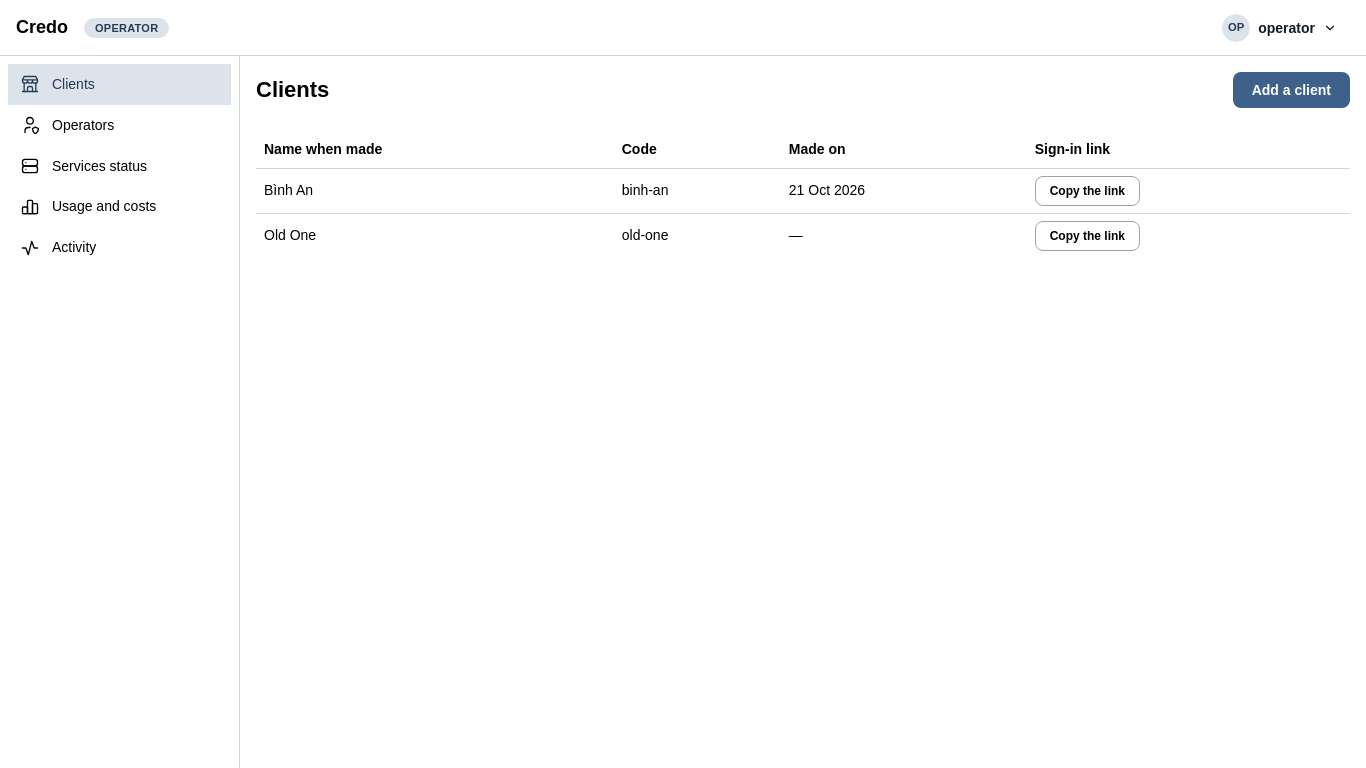
Test case: the operator’s page › A code already taken is refused, says so, and what was typed stays
Click the link "Add a client" at (1291, 90), box x1=1233 y1=72 x2=1350 y2=108
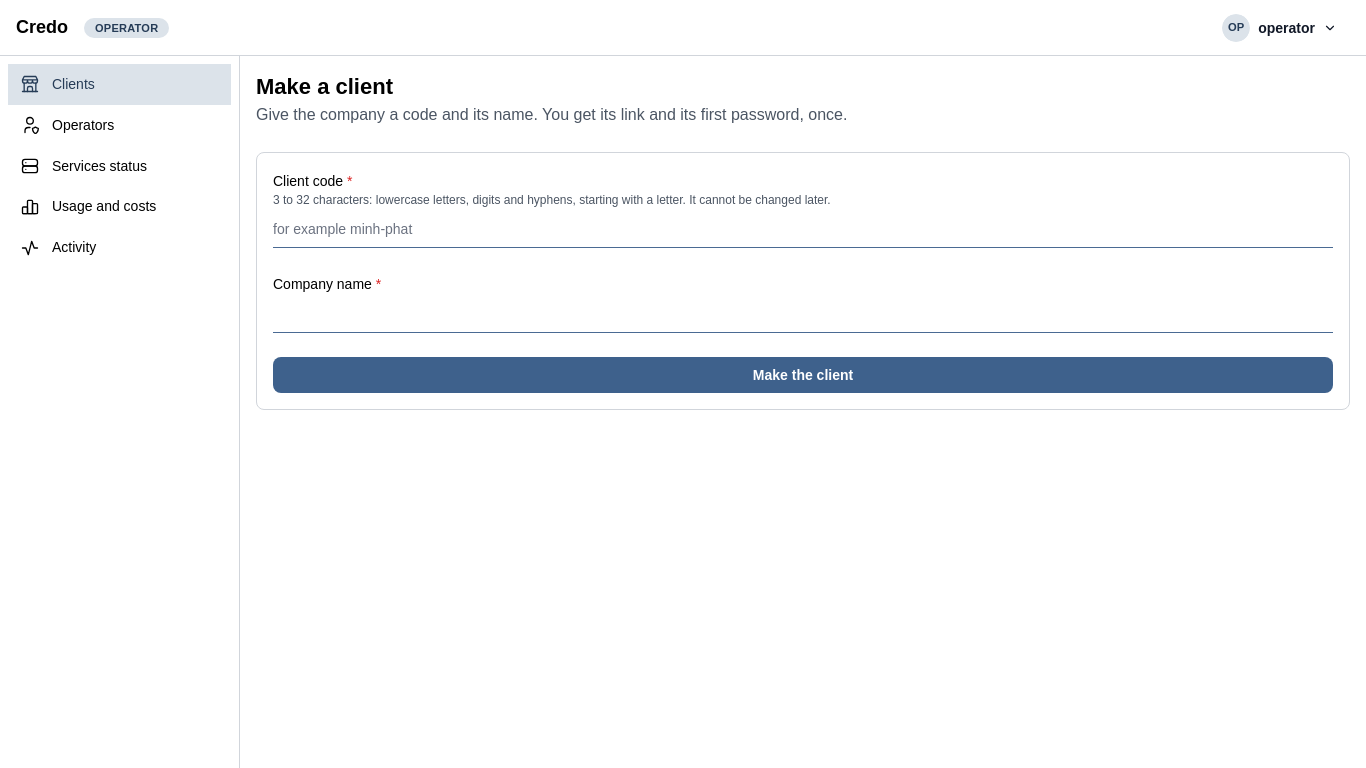
Type "minh-phat" into the field labelled "Client code *" at (803, 230), box x1=273 y1=212 x2=1333 y2=248
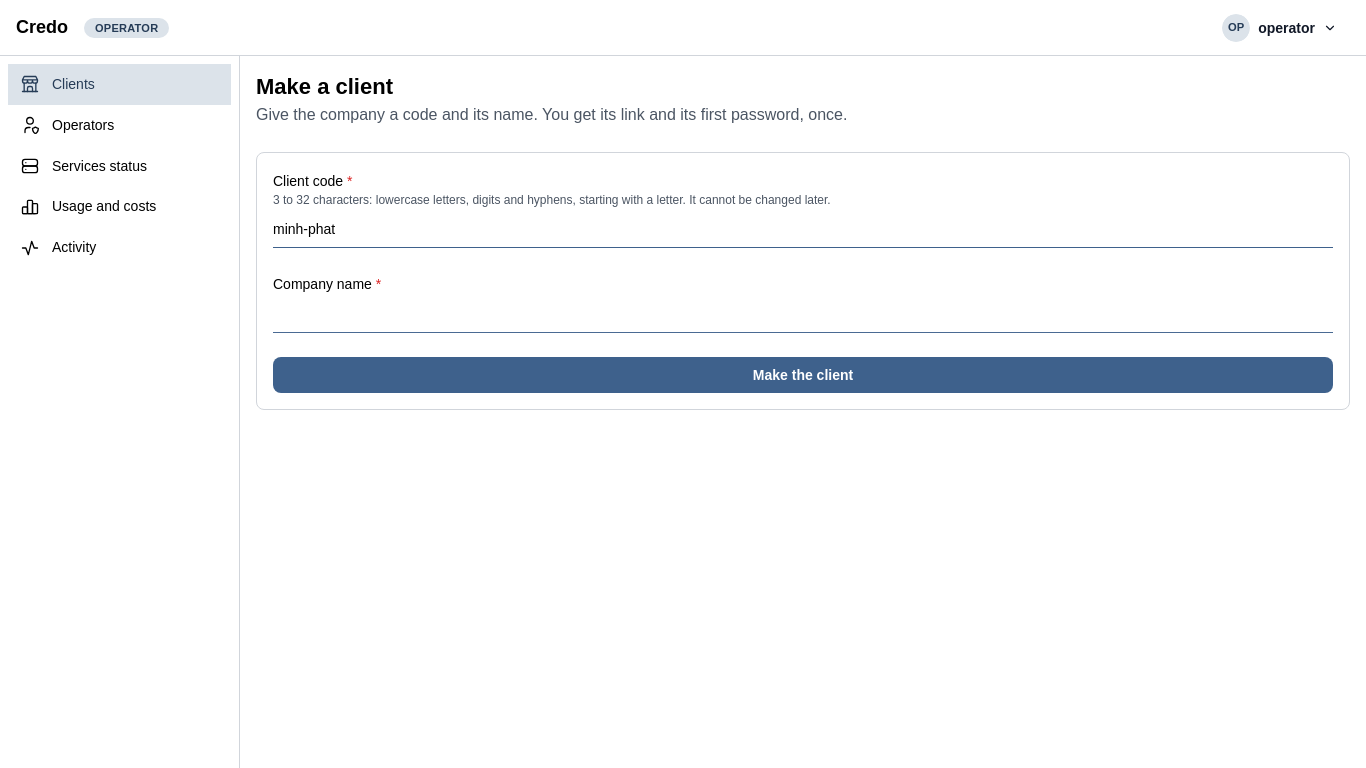
Type "Minh Phát" into the field labelled "Company name *" at (803, 315), box x1=273 y1=297 x2=1333 y2=333
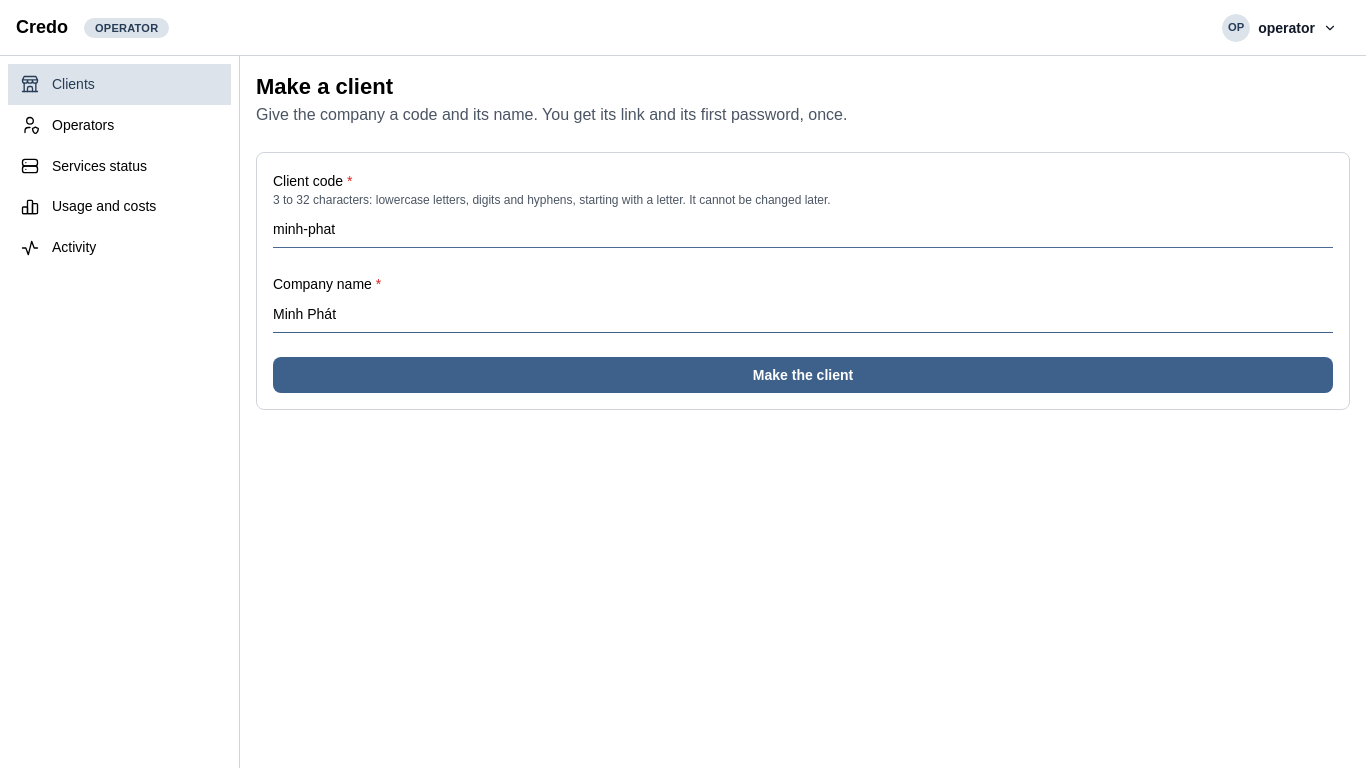
Click the button "Make the client" at (803, 375), box x1=273 y1=357 x2=1333 y2=393
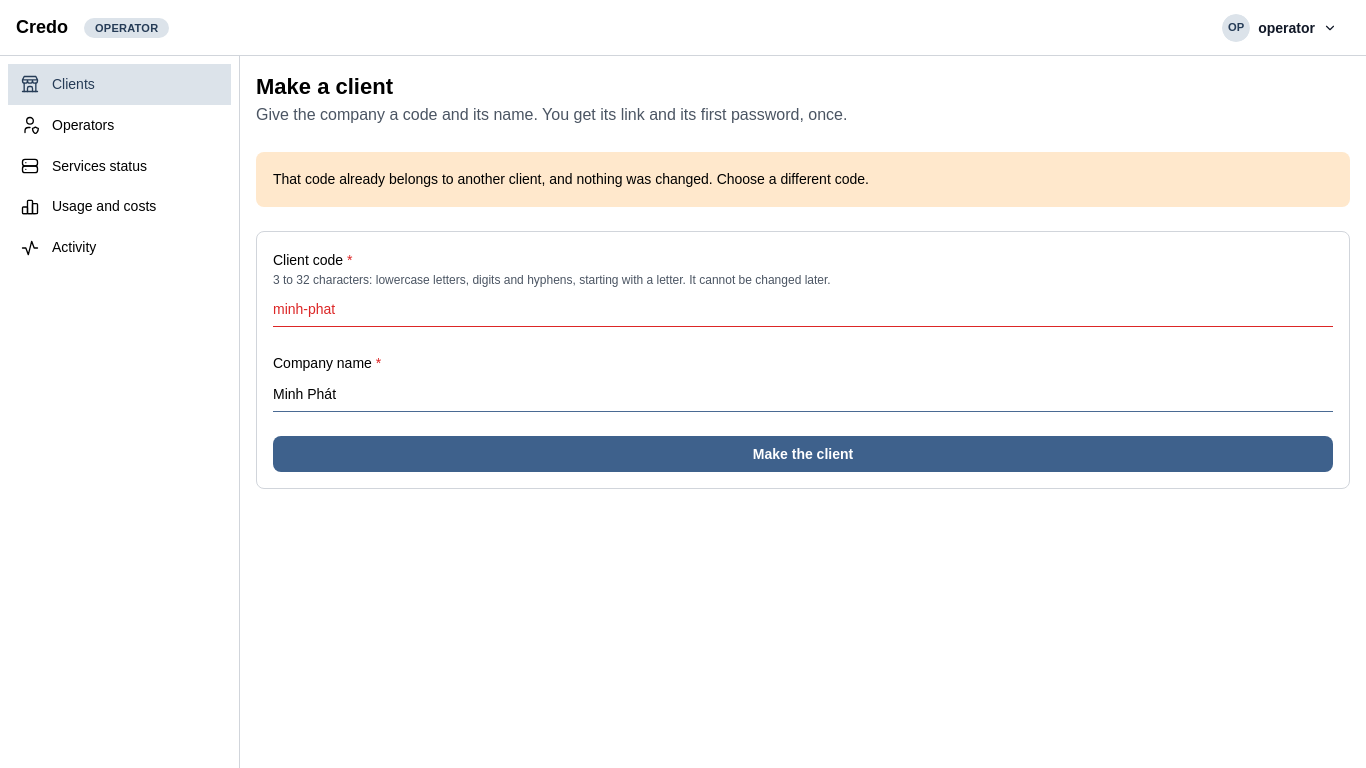
Check: the message shows "nothing was changed", box x1=273 y1=171 x2=869 y2=187
